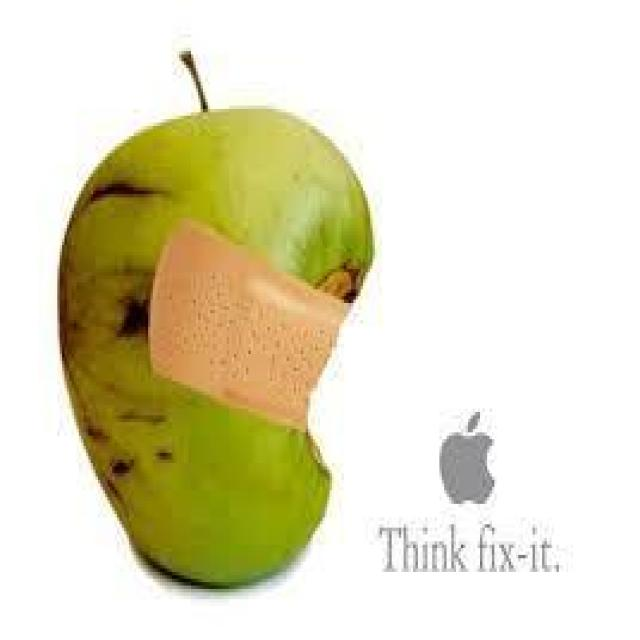maca: (55, 48, 375, 589)
